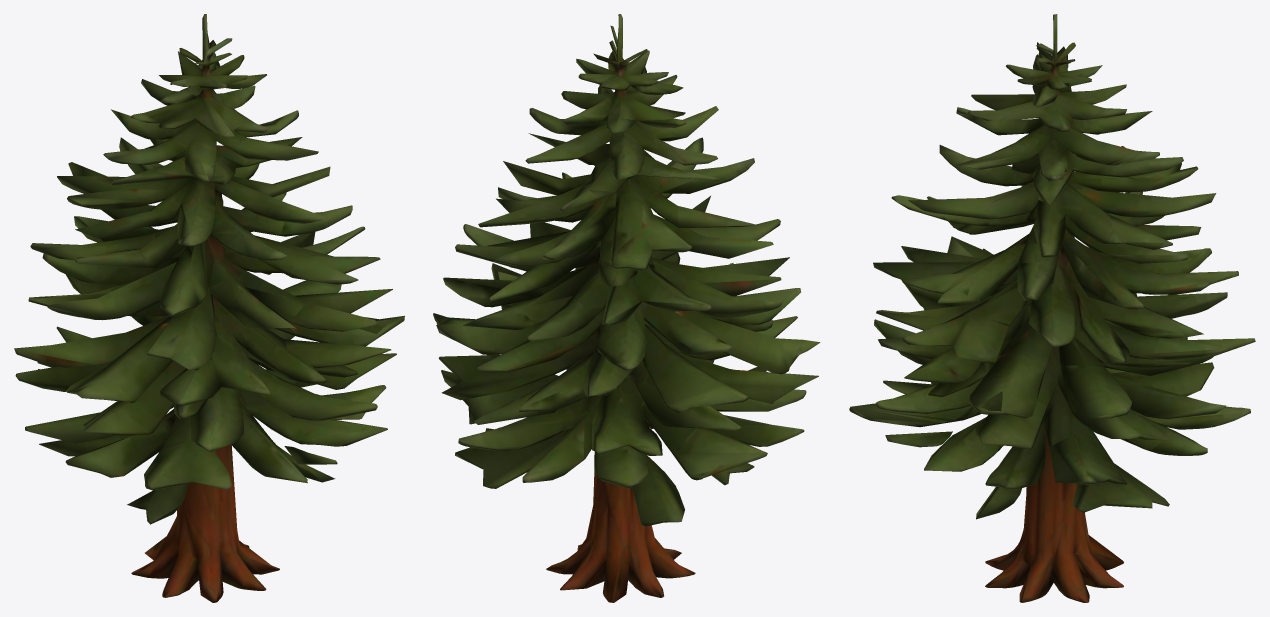
Rendered from pine_tree_2.glb.
3 renders of one model, left to right at view 1: azimuth 30°, elevation 25°; view 2: azimuth 150°, elevation 25°; view 3: azimuth 270°, elevation 25°, orthographic.
Visible parts, largest first — view 1: node_0; view 2: node_0; view 3: node_0.
Boxes of the visible parts, x1,y1,x2,y2 form: node_0: (14,14,404,602); node_0: (433,14,820,602); node_0: (849,14,1255,602).
Bounding box in the file's own units: 0.7166 × 1.16 × 0.7632.
Materials: 1 (1 with a texture image).
